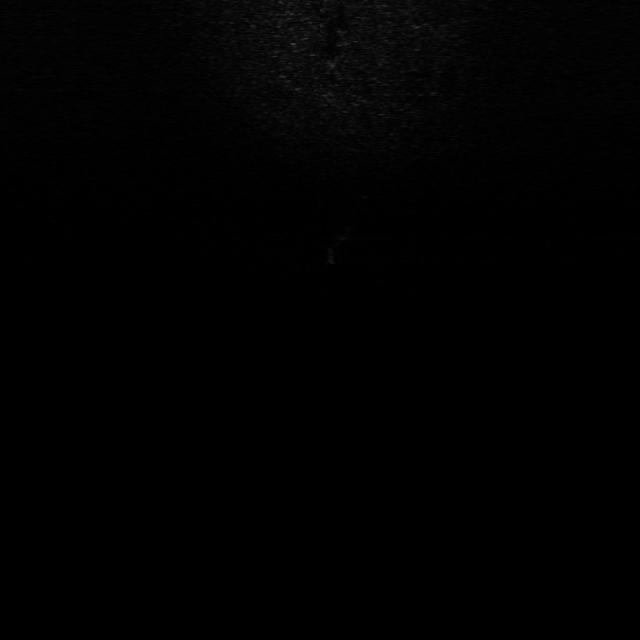human body: (327, 214, 359, 268)
